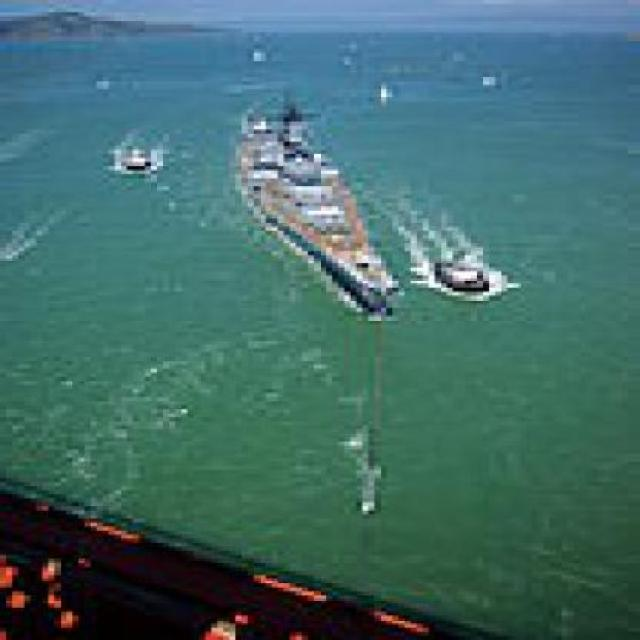warship2: (218, 86, 424, 326)
